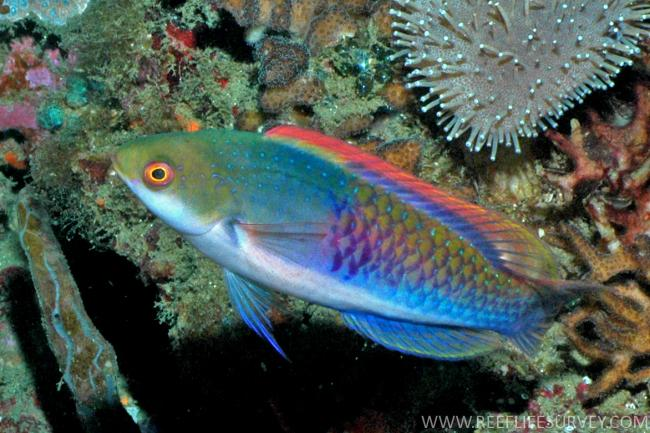fish: (110, 125, 619, 361)
